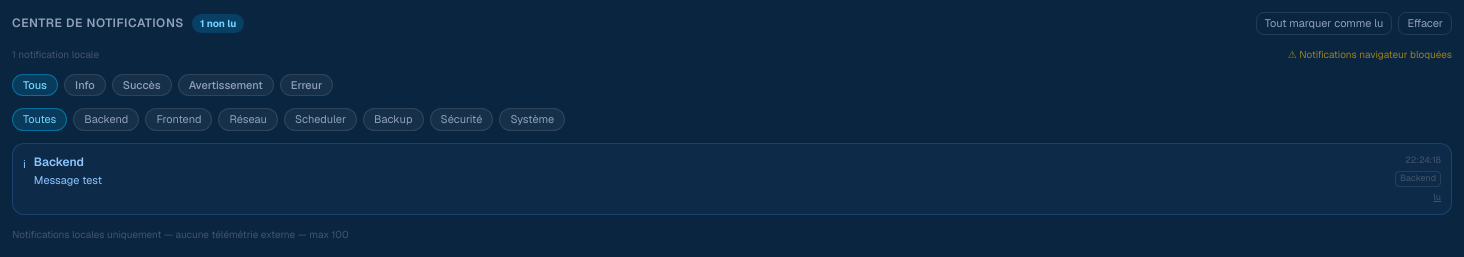
Test case: NotificationsCenterPanel — badge non lu › masque le badge quand toutes les notifications sont lues
Click the button "Tout marquer comme lu".
click(1324, 23)  # box [1256, 12, 1392, 34]
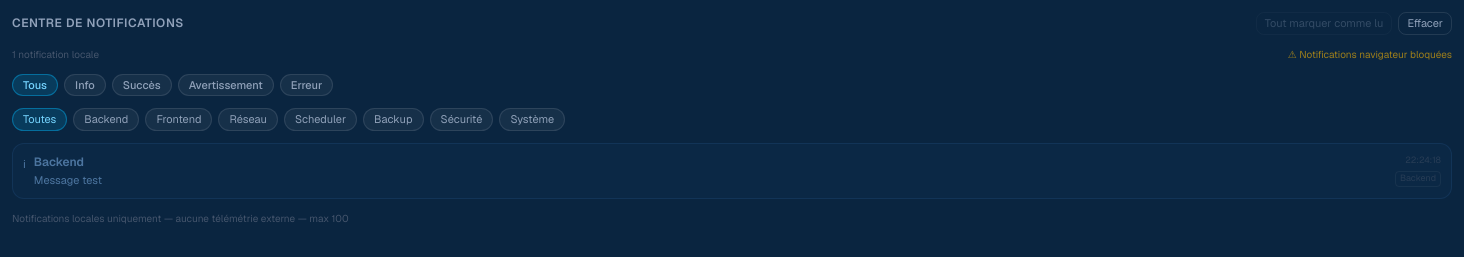
Expected: the text "non lu" is gone
